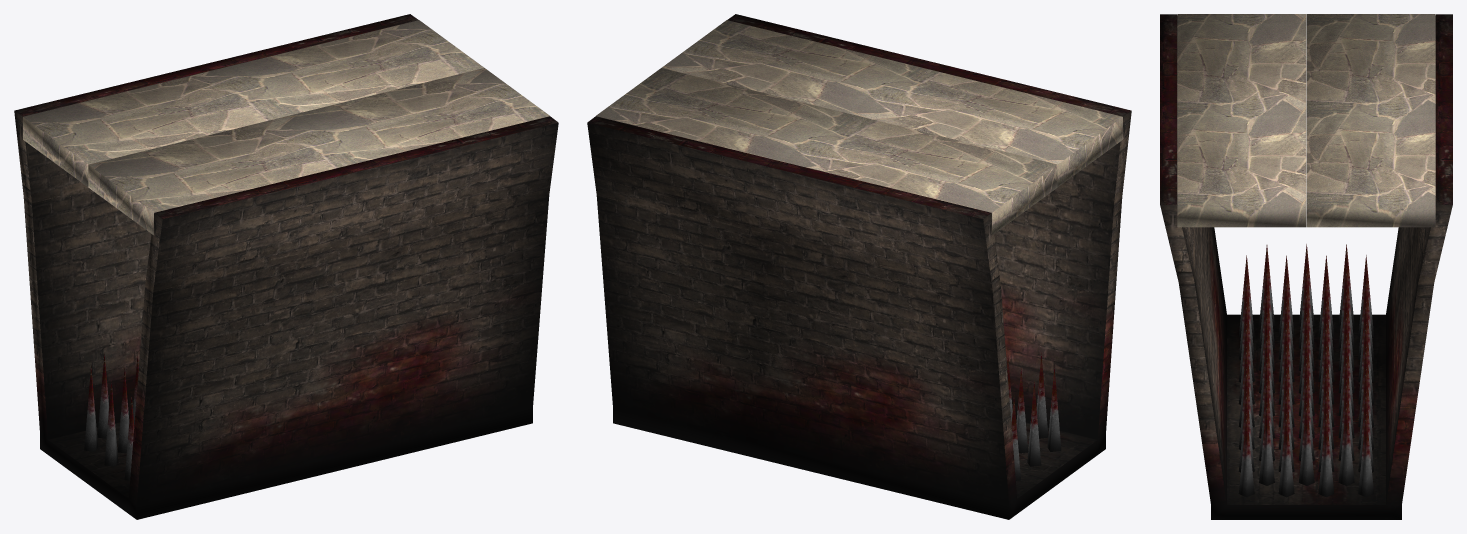
Rendered from anitrap2.fbx.
3 views of the same model, side by side, from view 1: azimuth 30°, elevation 25°; view 2: azimuth 150°, elevation 25°; view 3: azimuth 270°, elevation 25° (orthographic).
Parts seen in each view (by area): view 1: Cubo.1, Cubo.3, Cubo.4; view 2: Cubo.1, Cubo.4, Cubo.3; view 3: Cubo.1, Cubo.4, Cubo.3.
Boxes of the visible parts, x1=… form: Cubo.1: x1=14, y1=14, x2=558, y2=519; Cubo.3: x1=88, y1=68, x2=549, y2=235; Cubo.4: x1=23, y1=20, x2=484, y2=186; Cubo.1: x1=587, y1=14, x2=1131, y2=519; Cubo.4: x1=596, y1=68, x2=1057, y2=235; Cubo.3: x1=661, y1=20, x2=1122, y2=186; Cubo.1: x1=1160, y1=14, x2=1452, y2=519; Cubo.4: x1=1306, y1=14, x2=1435, y2=227; Cubo.3: x1=1177, y1=14, x2=1306, y2=227.
Size of the model in its own units: 31.99 by 24.67 by 20.76.
